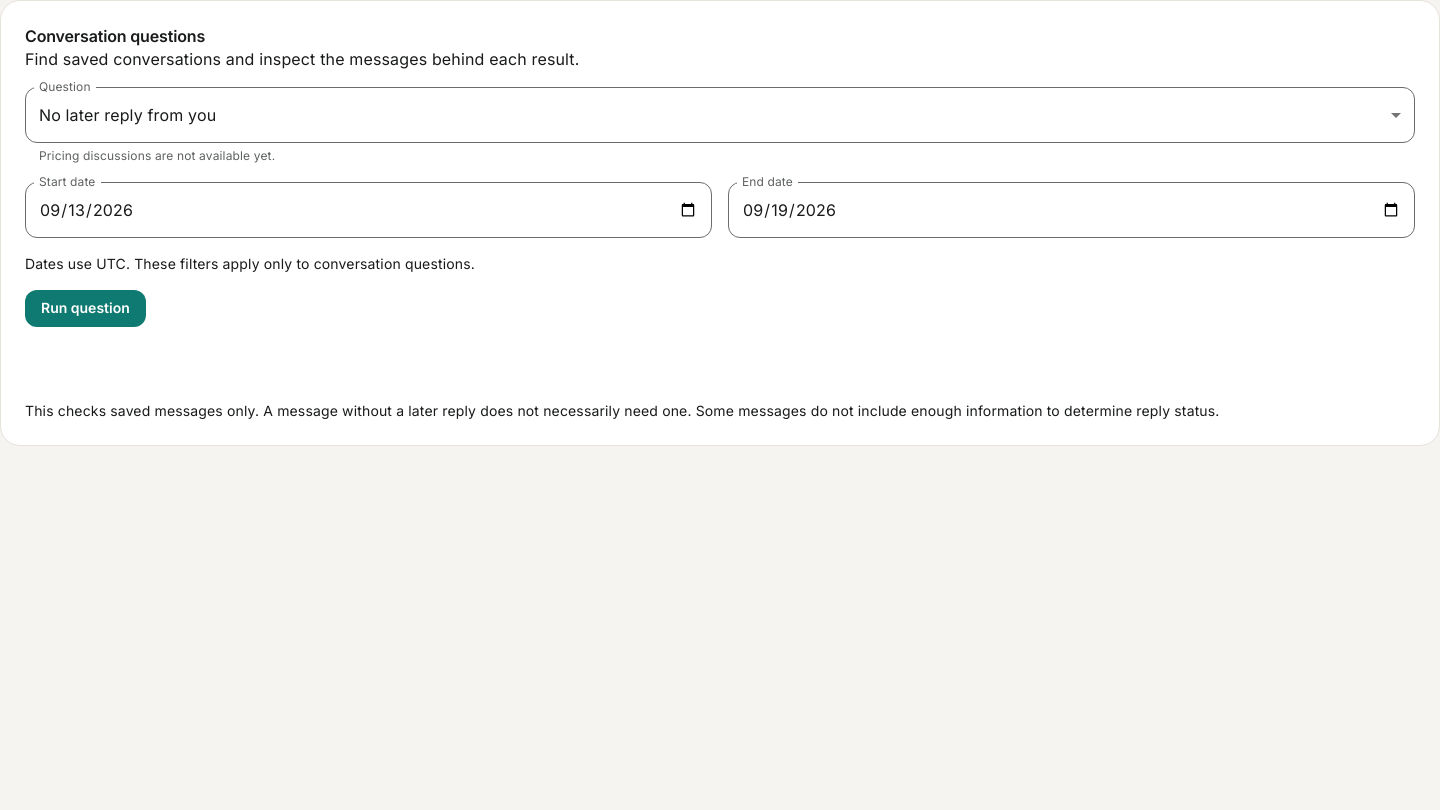
Scenario: Conversation questions › shows paginated results and opens source text and the saved conversation
Click the button "Run question". click: (85, 309)
box: top-left (25, 290), bottom-right (146, 327)
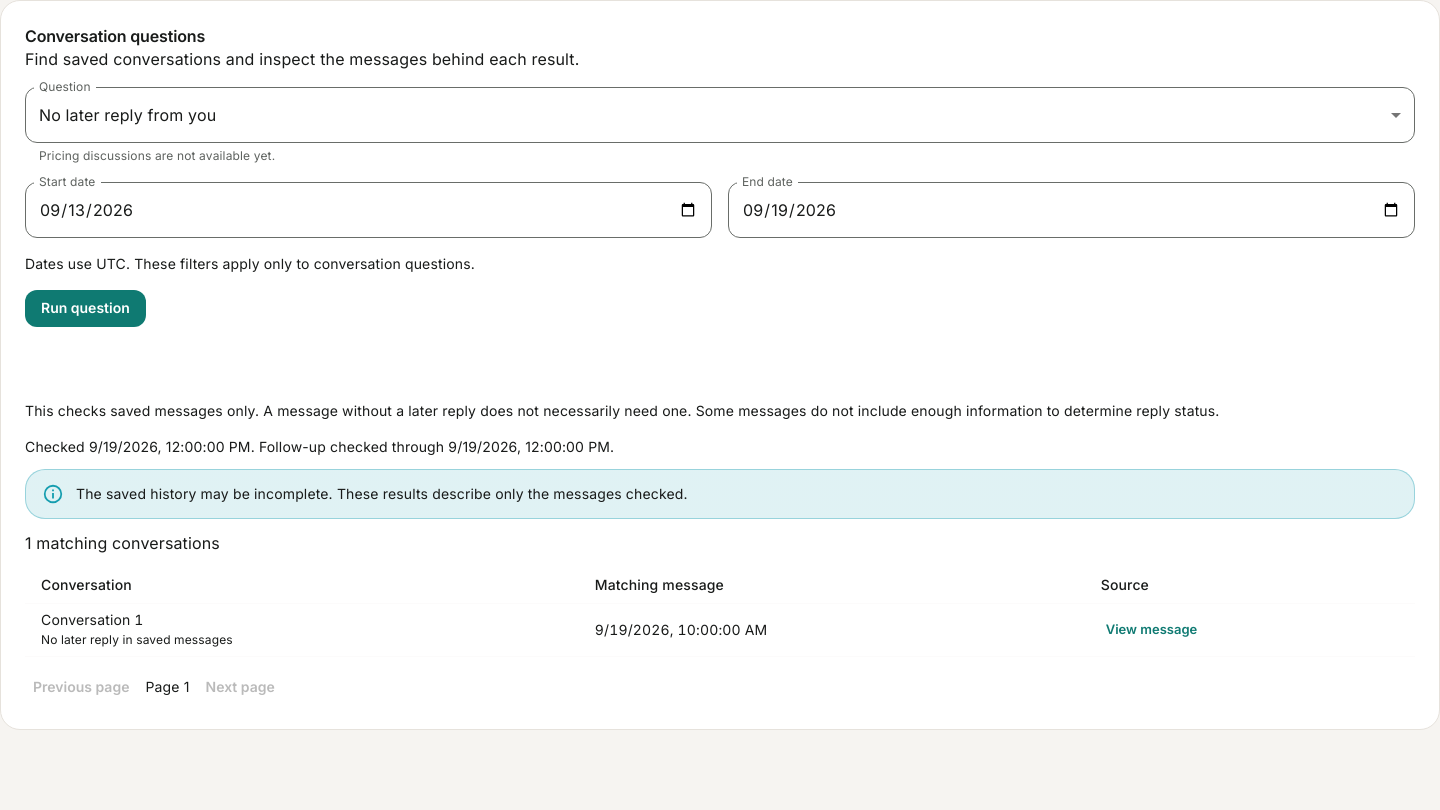
Now the text "Checked " is shown, box top-left (25, 438), bottom-right (89, 455)
Now the table named "Conversation question results" is shown, box top-left (25, 567), bottom-right (1415, 657)
Click the button with aria-label "View source 1". click: (1151, 630)
box: top-left (1101, 614), bottom-right (1202, 645)
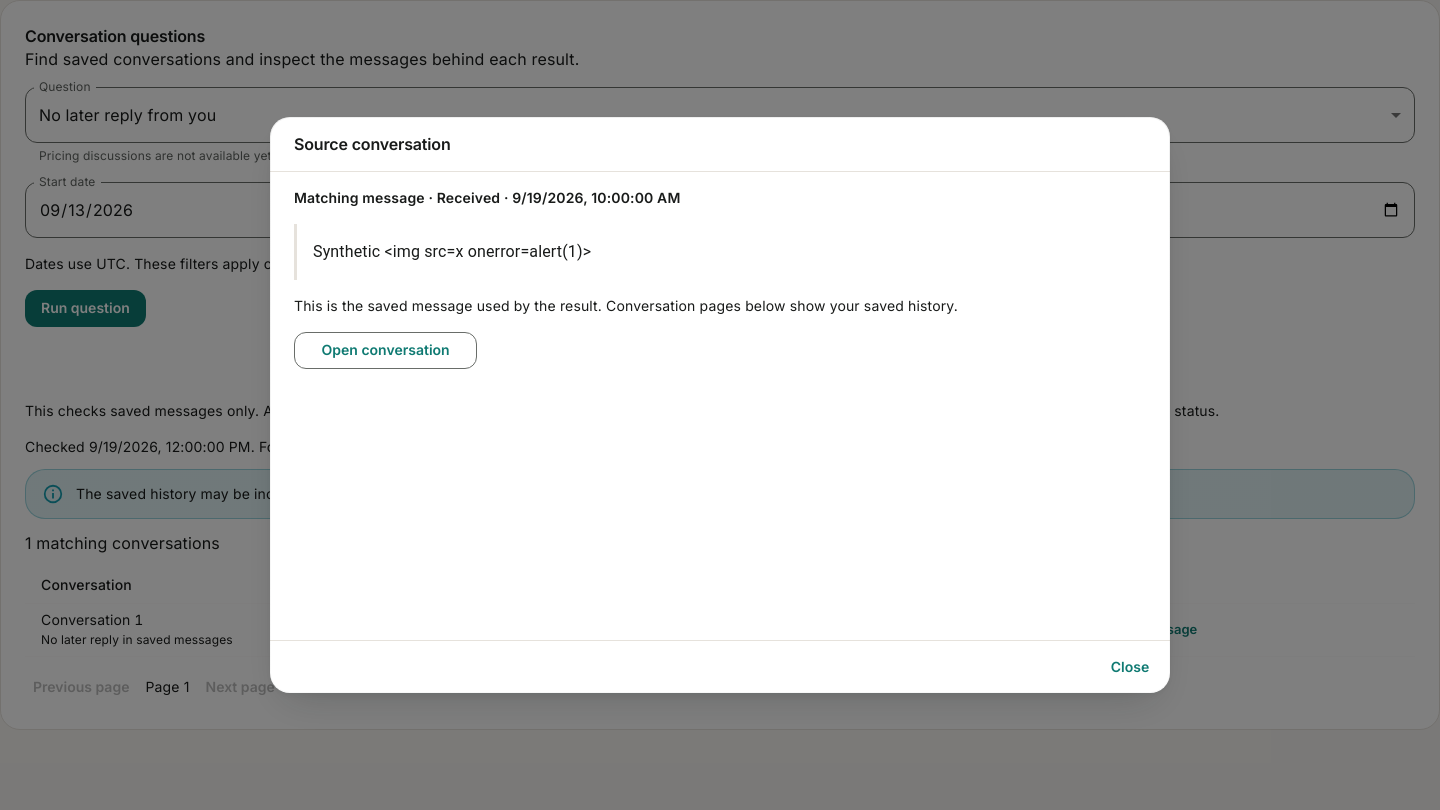
Now the text "Synthetic <img src=x onerror=alert(1)>" is shown, box top-left (294, 224), bottom-right (1131, 280)
Click the button "Open conversation". click: (386, 351)
box: top-left (294, 332), bottom-right (477, 369)
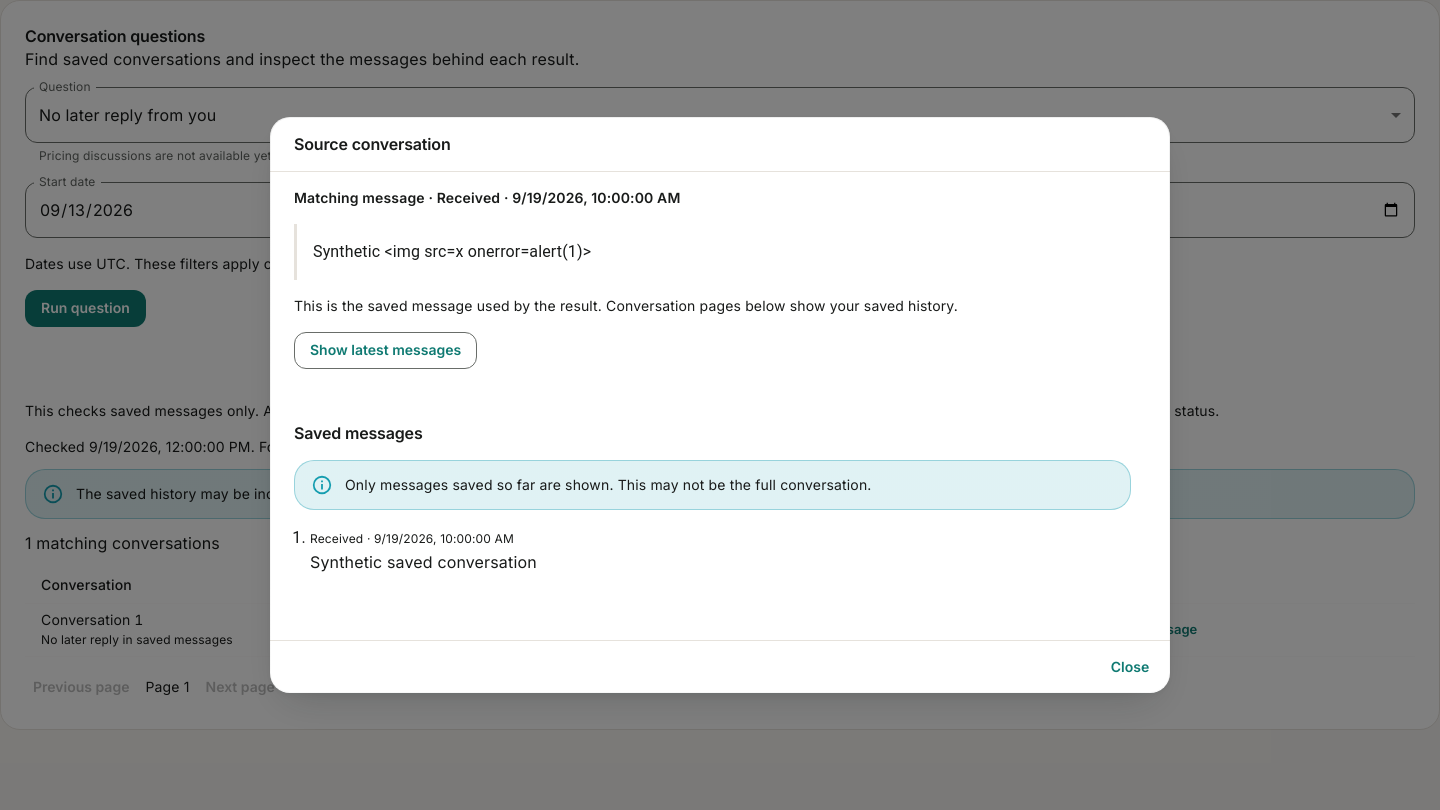
Now the text "Synthetic saved conversation" is shown, box top-left (310, 552), bottom-right (537, 572)
Click the button "Close". click: (1130, 667)
box: top-left (1098, 648), bottom-right (1162, 685)
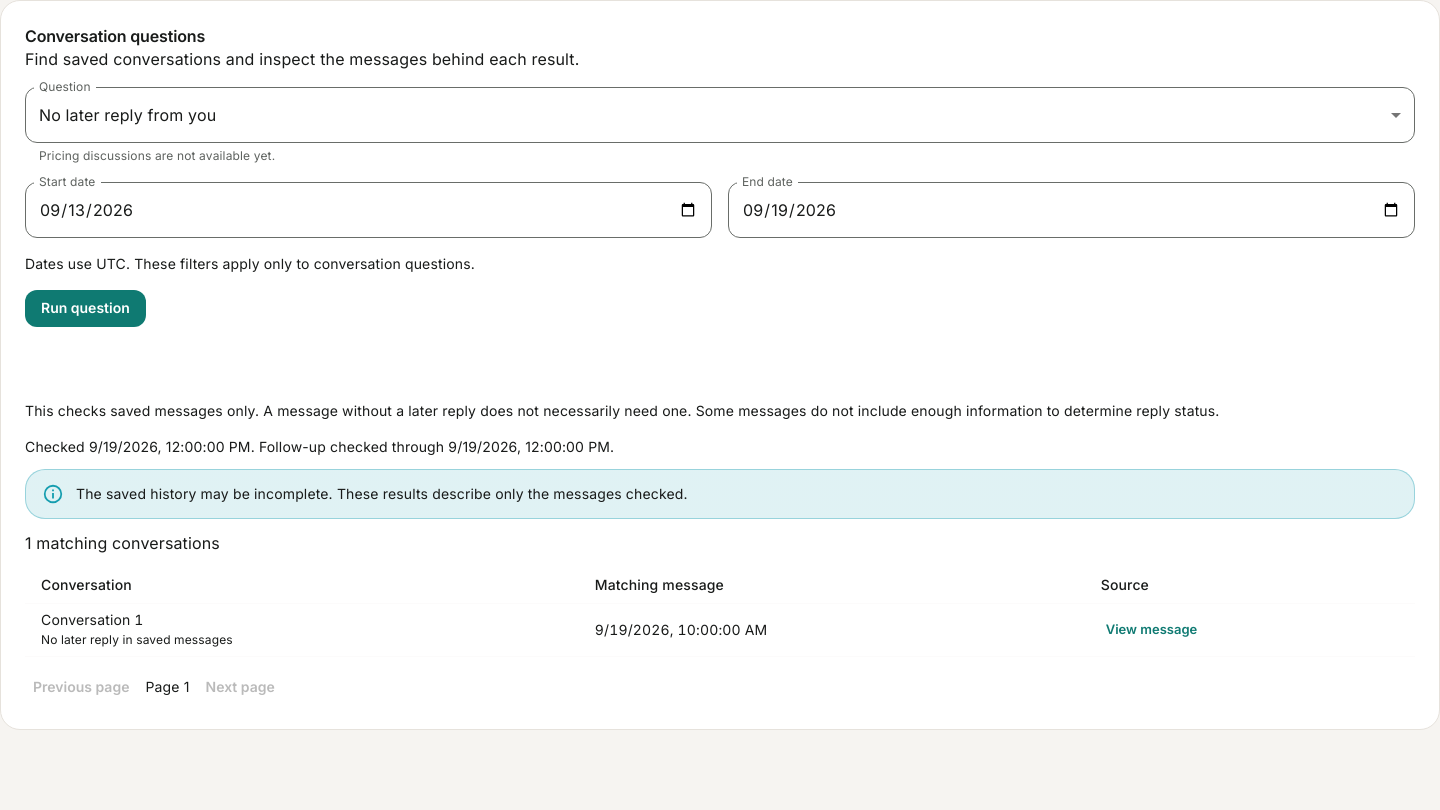
Now the dialog is gone
